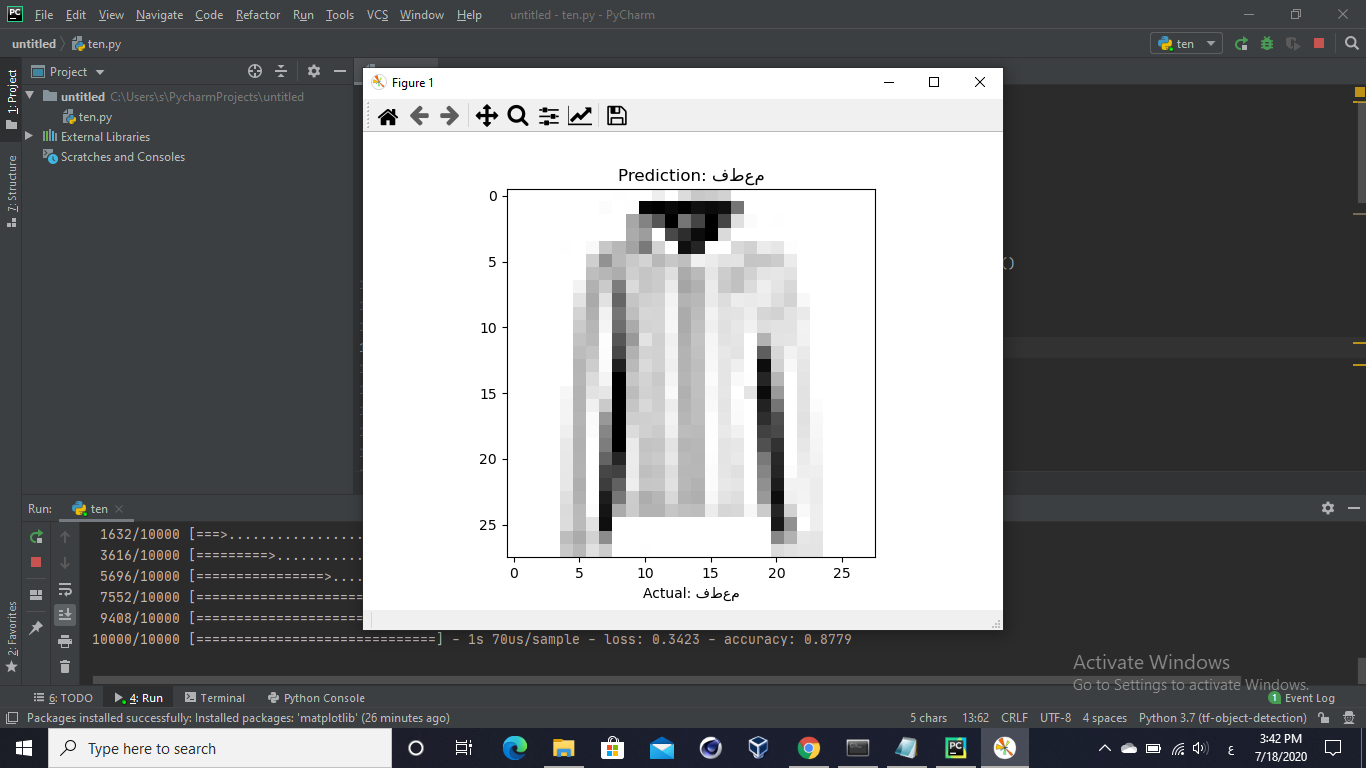sweater: (411, 112, 953, 612)
